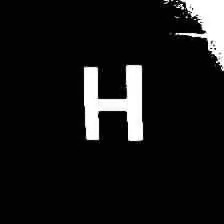LTR_H: (77, 54, 148, 147)
